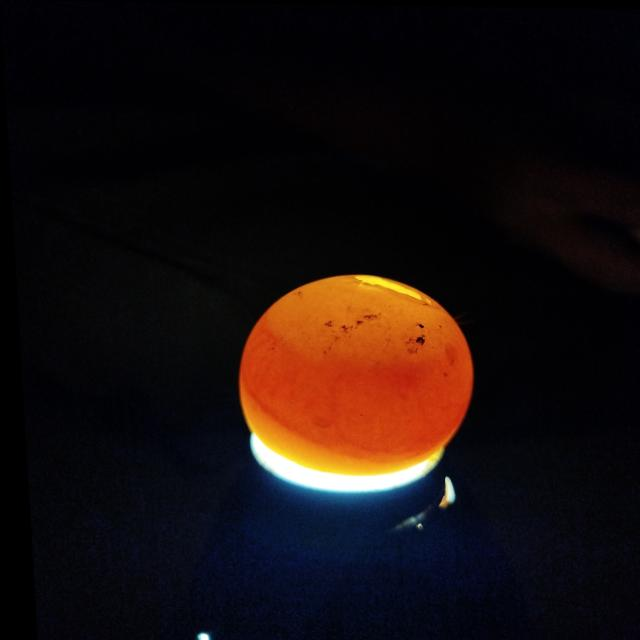Gema Quebrada: (234, 315, 467, 460)
